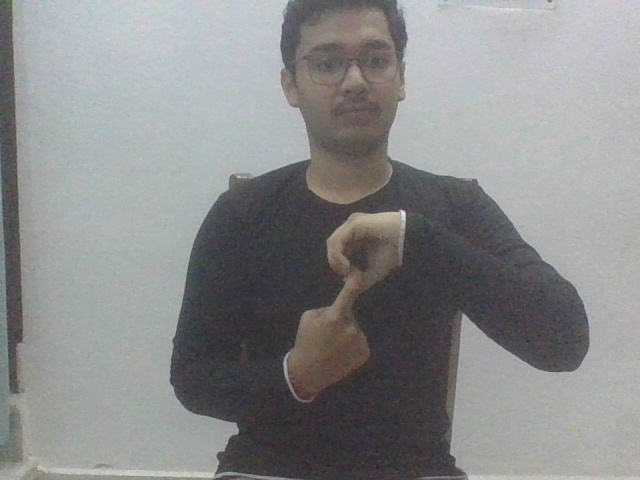Q: (284, 208, 405, 402)
